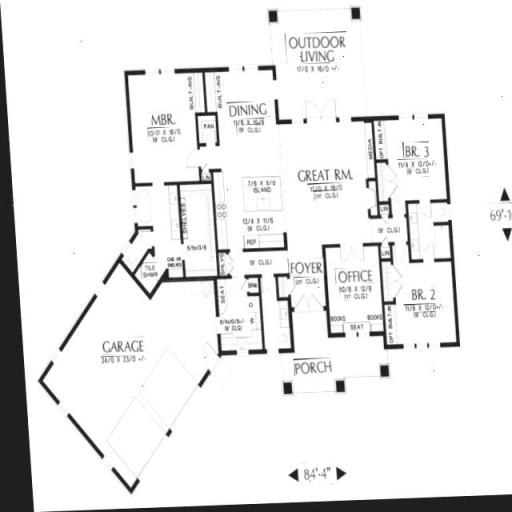Room: (221, 74, 280, 161), (331, 248, 377, 330)
bedroom: (127, 78, 205, 176), (384, 264, 457, 345), (381, 126, 442, 197)
garage: (56, 286, 188, 438)
hall: (284, 126, 371, 245)
porch: (237, 352, 410, 386)
